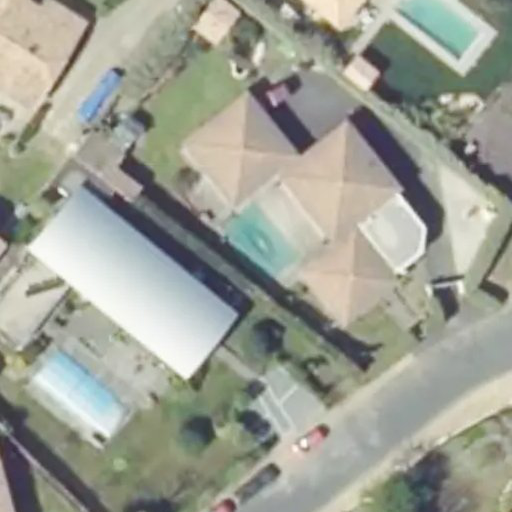pool: (36, 355, 121, 437), (225, 205, 302, 287), (398, 1, 480, 62)
